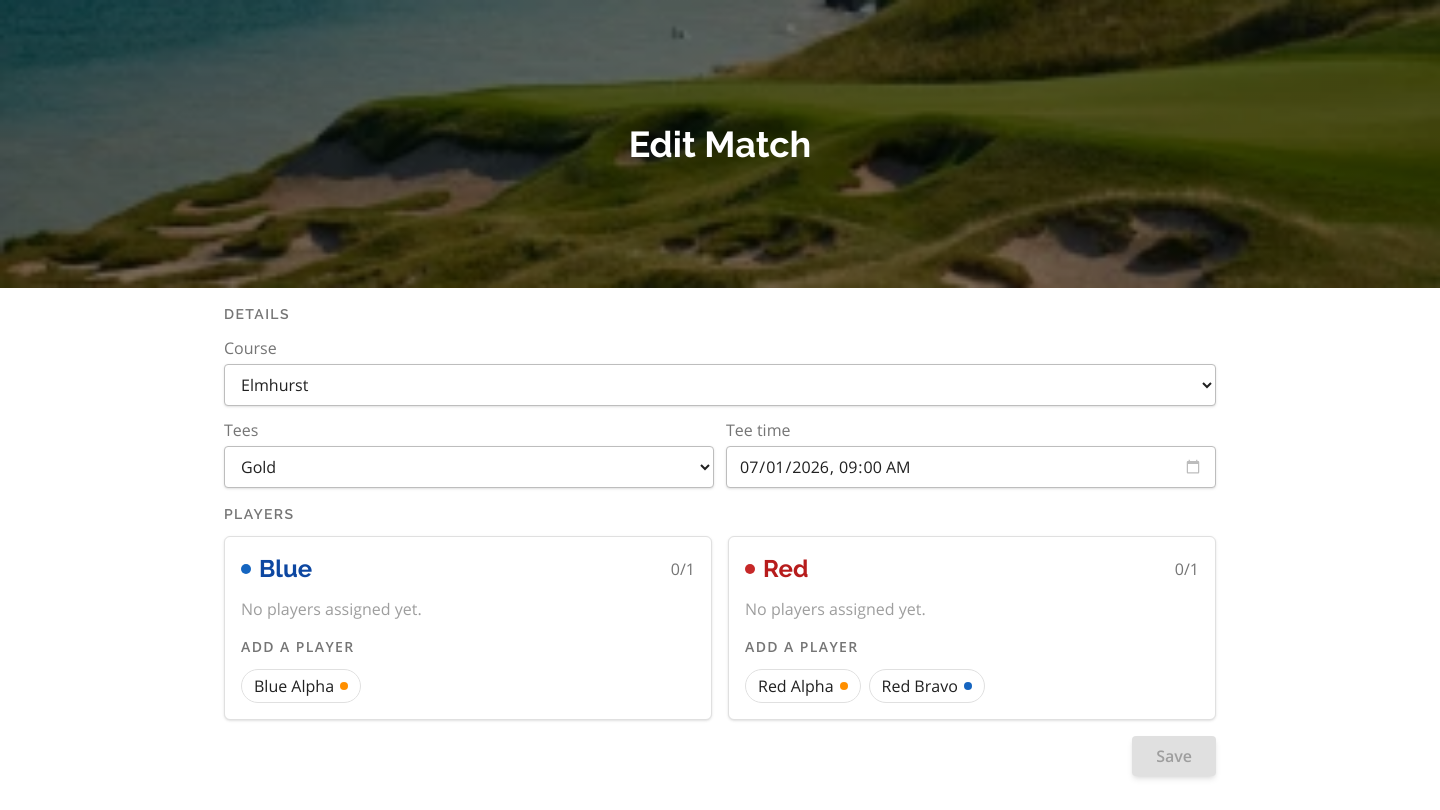
Test: AdminMatchLineupView › puts the match back on its own tee after a round trip through another course
This screenshot has width=1440, height=810.
Expected: the dropdown with id "tee" shows "Gold", [224,446,714,488]
Select "Banff Springs" in the dropdown with id "course" at (720, 385), box [224,364,1216,406]
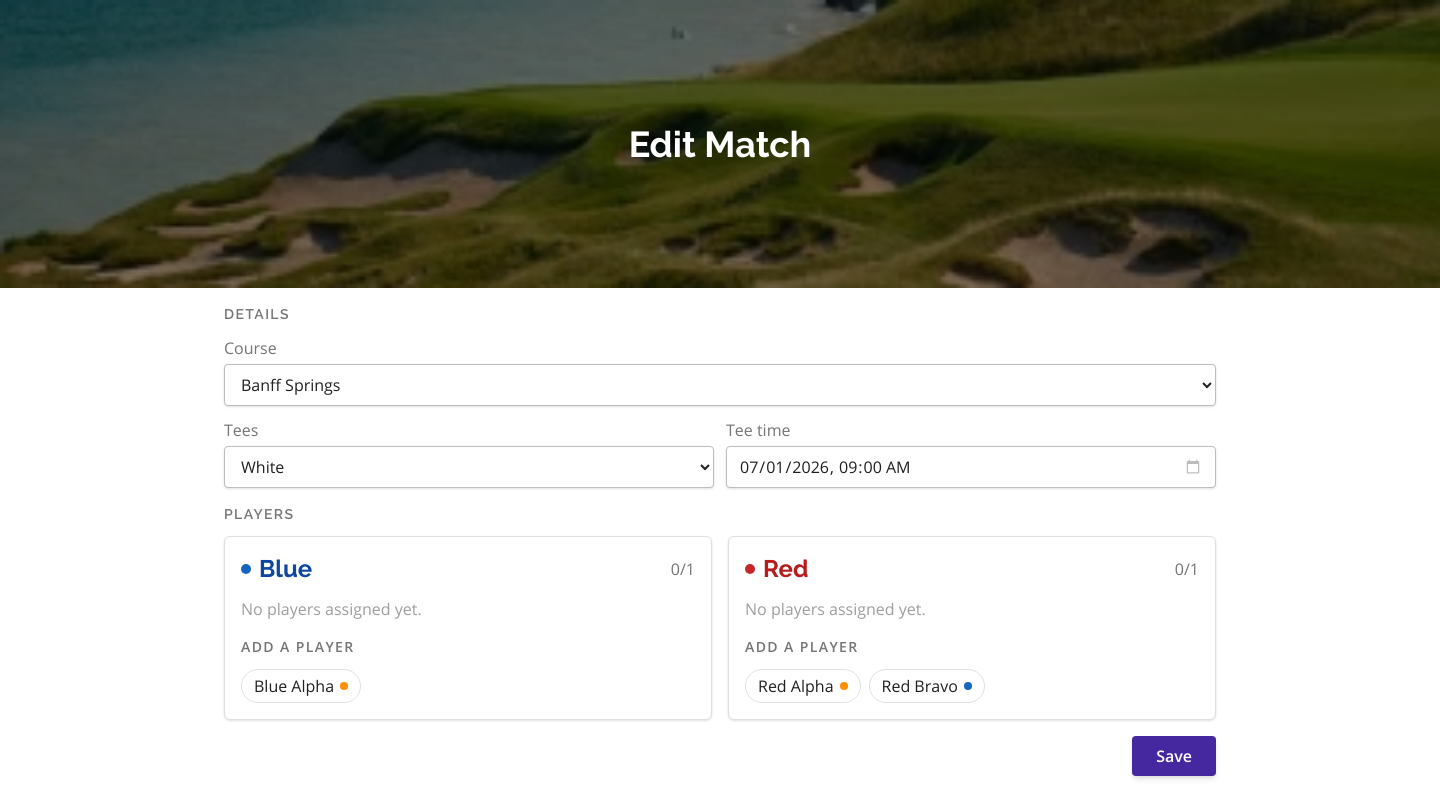
Select "Elmhurst" in the dropdown with id "course" at (720, 385), box [224,364,1216,406]
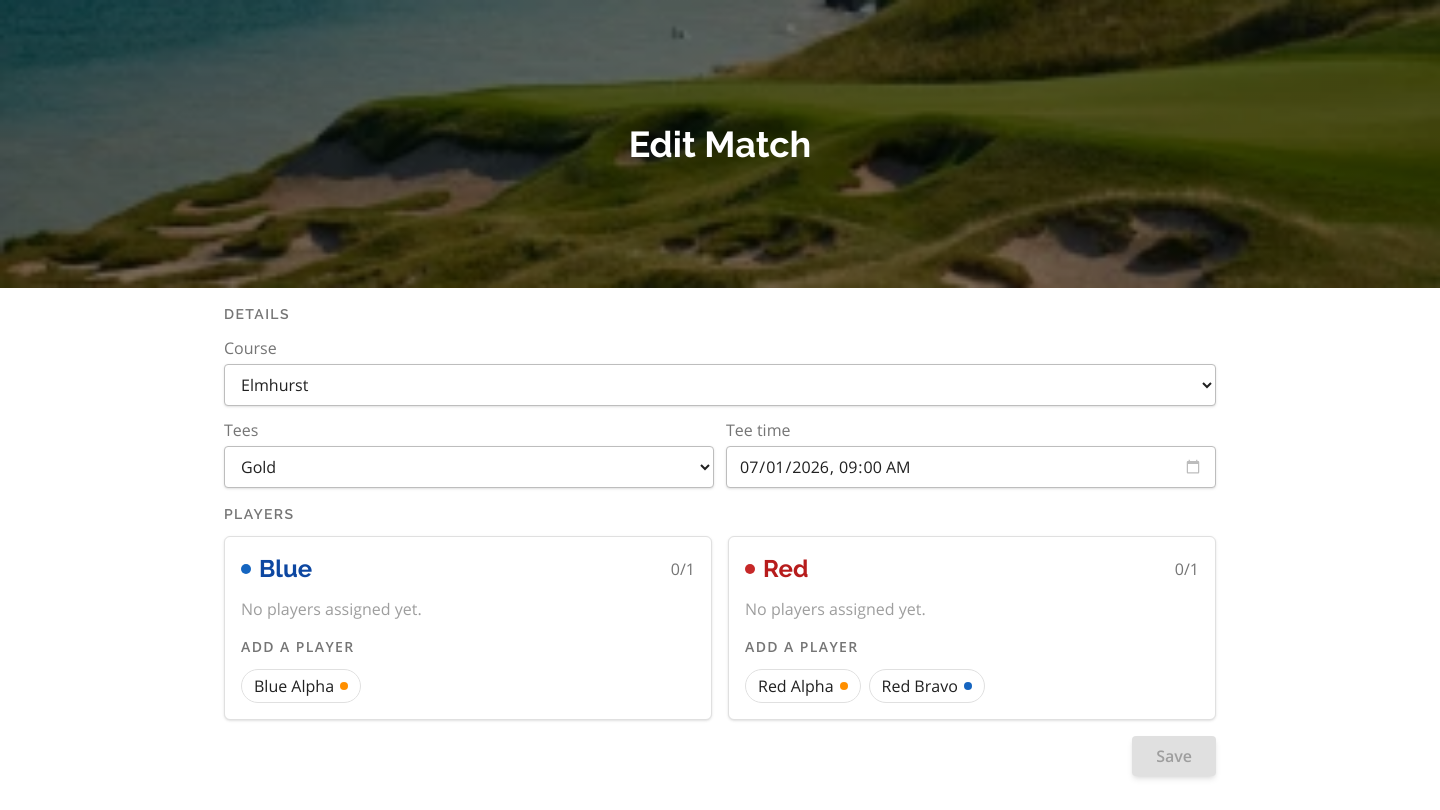
Result: the dropdown with id "tee" shows "Gold" at [224,446,714,488]
Result: the button "Save" is disabled at [1132,736,1216,776]
